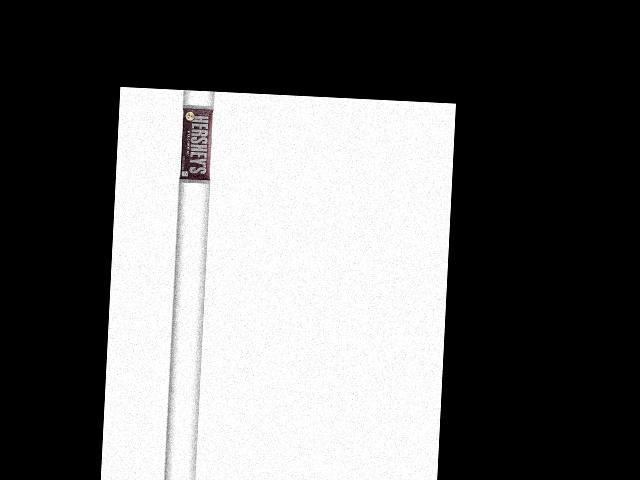chocolate: (175, 106, 212, 183)
